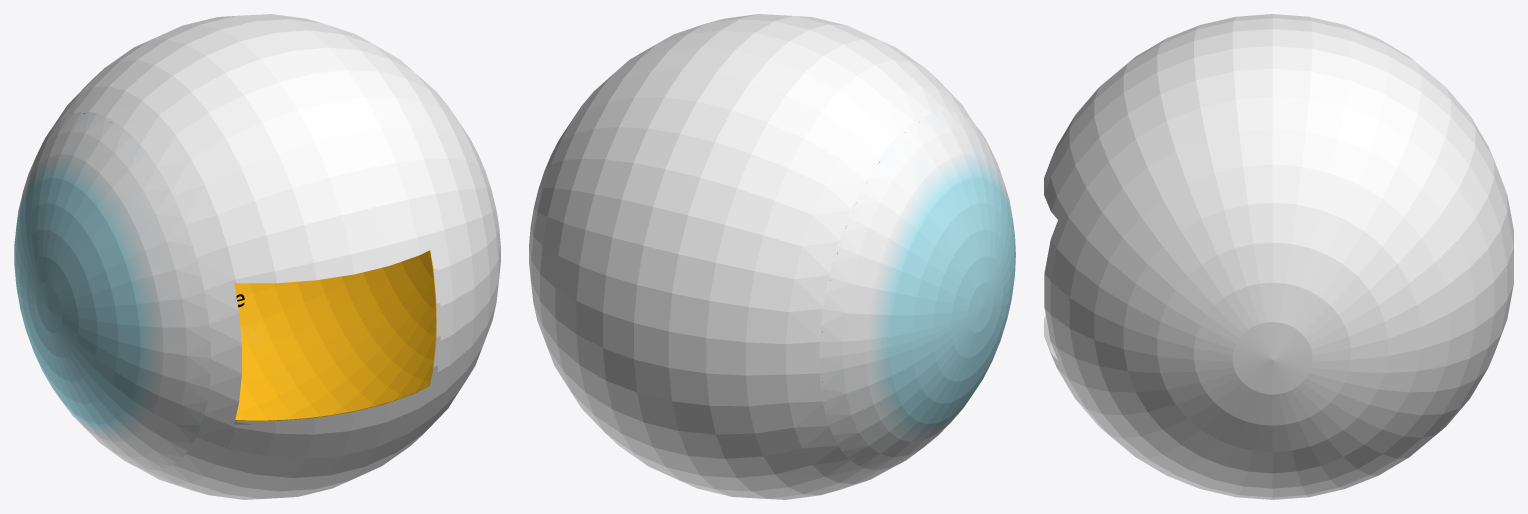
File: asset.glb
3 views of the same model, side by side, from view 1: azimuth 30°, elevation 25°; view 2: azimuth 150°, elevation 25°; view 3: azimuth 270°, elevation 25° (orthographic).
Visible parts, largest first — view 1: sclera_open, cornea, retina_open.001; view 2: sclera_open, cornea; view 3: sclera_open.
Boxes of the visible parts, <box> form: sclera_open: <box>46,14,500,499</box>; cornea: <box>14,111,210,470</box>; retina_open.001: <box>234,250,436,420</box>; sclera_open: <box>529,14,974,499</box>; cornea: <box>819,111,1015,469</box>; sclera_open: <box>1044,14,1513,499</box>.
Size of the model in its own units: 101 by 101 by 97.6.
